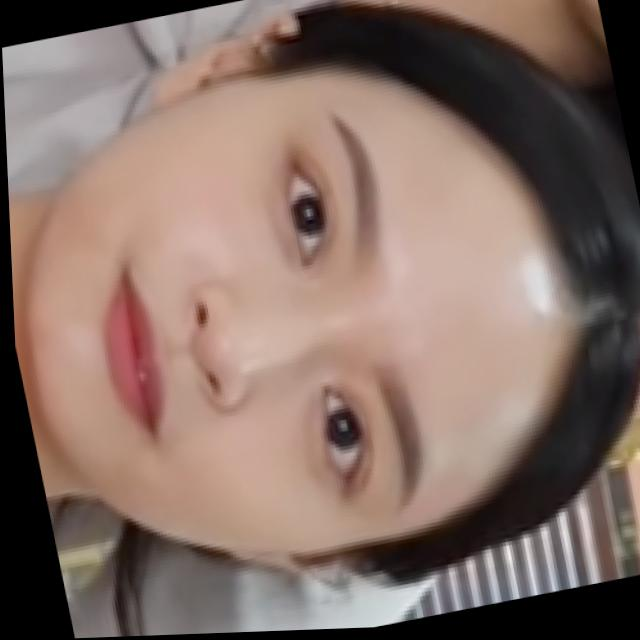face: (2, 35, 599, 597)
